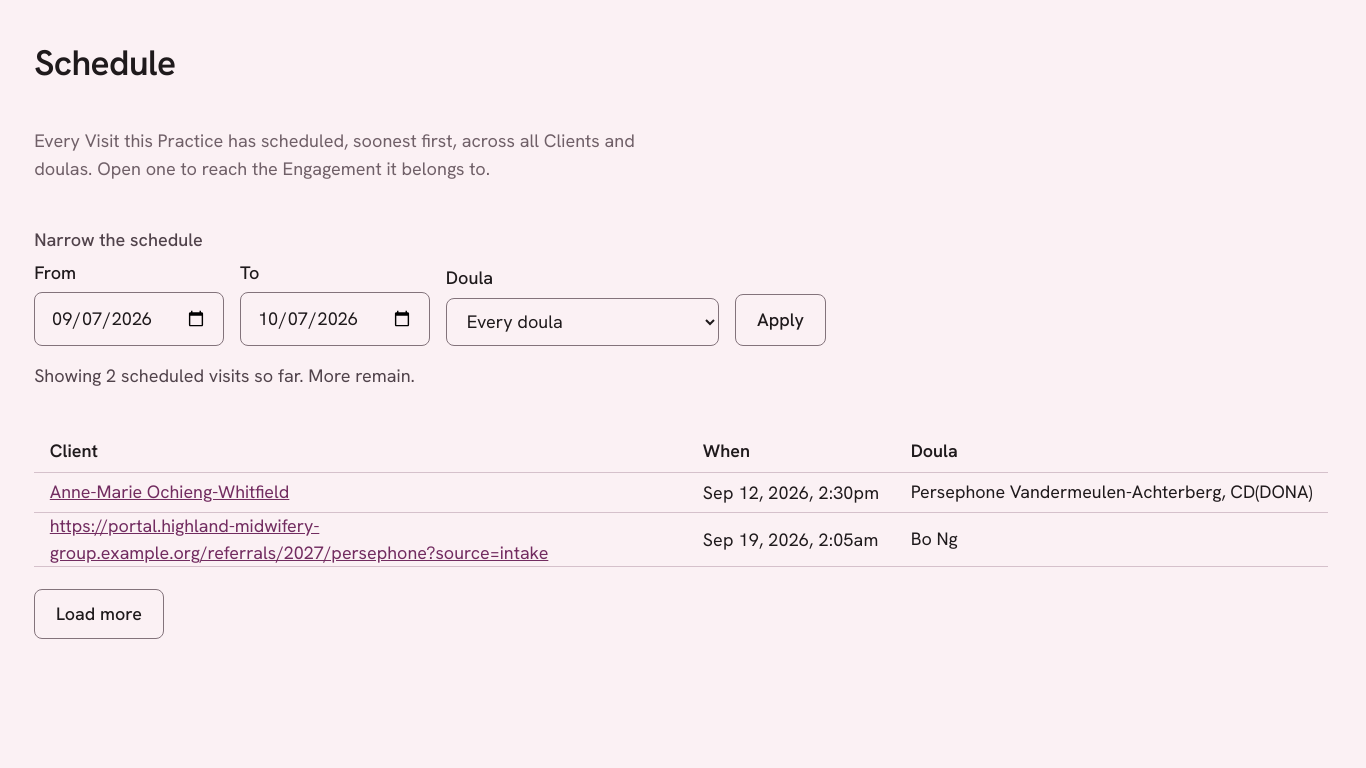
it: the Practice-wide schedule (#263) › appends the next page rather than replacing the one already read, continuing the same narrowing
Click the button "Load more" at point(99, 614), box 34,589 -> 164,639
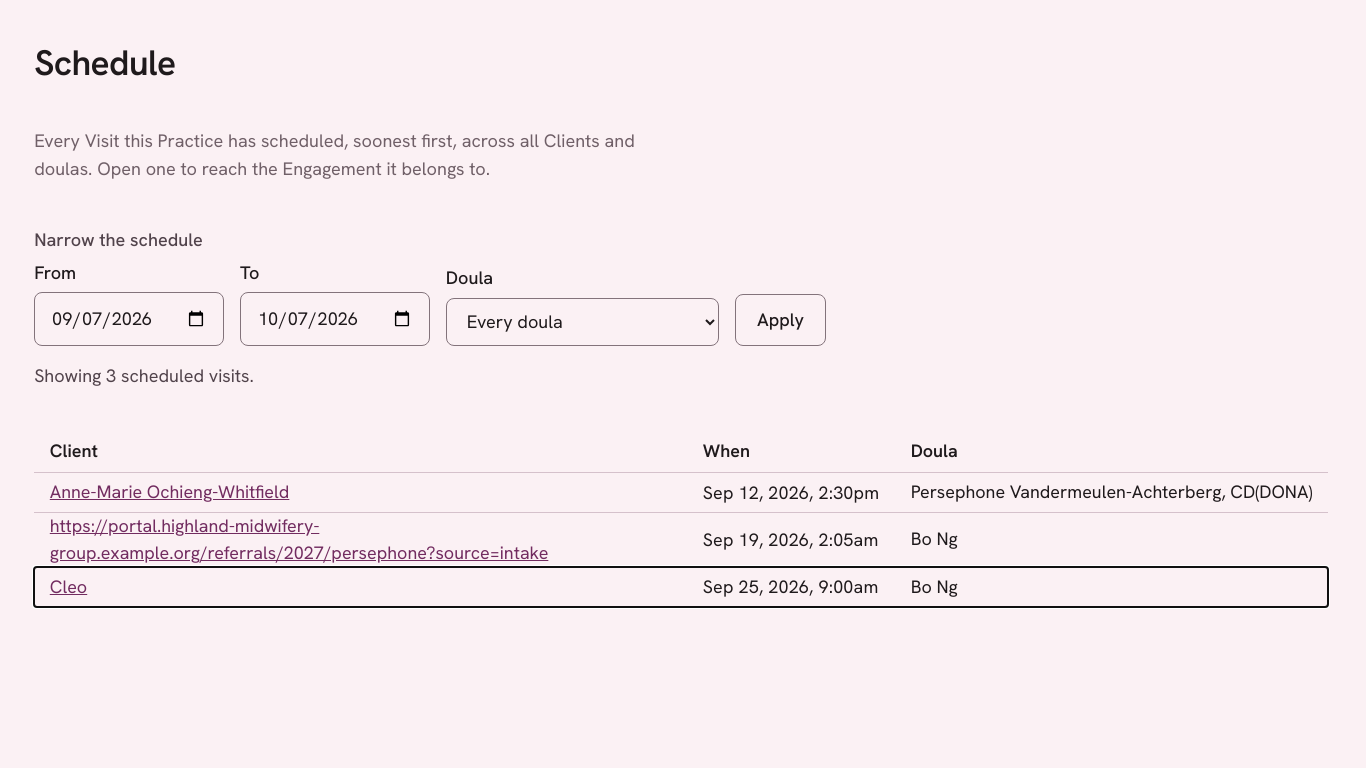
Expected: the link "Anne-Marie Ochieng-Whitfield" is shown, 50,480 -> 289,503
Result: the link "Cleo" is shown at 50,574 -> 87,598
